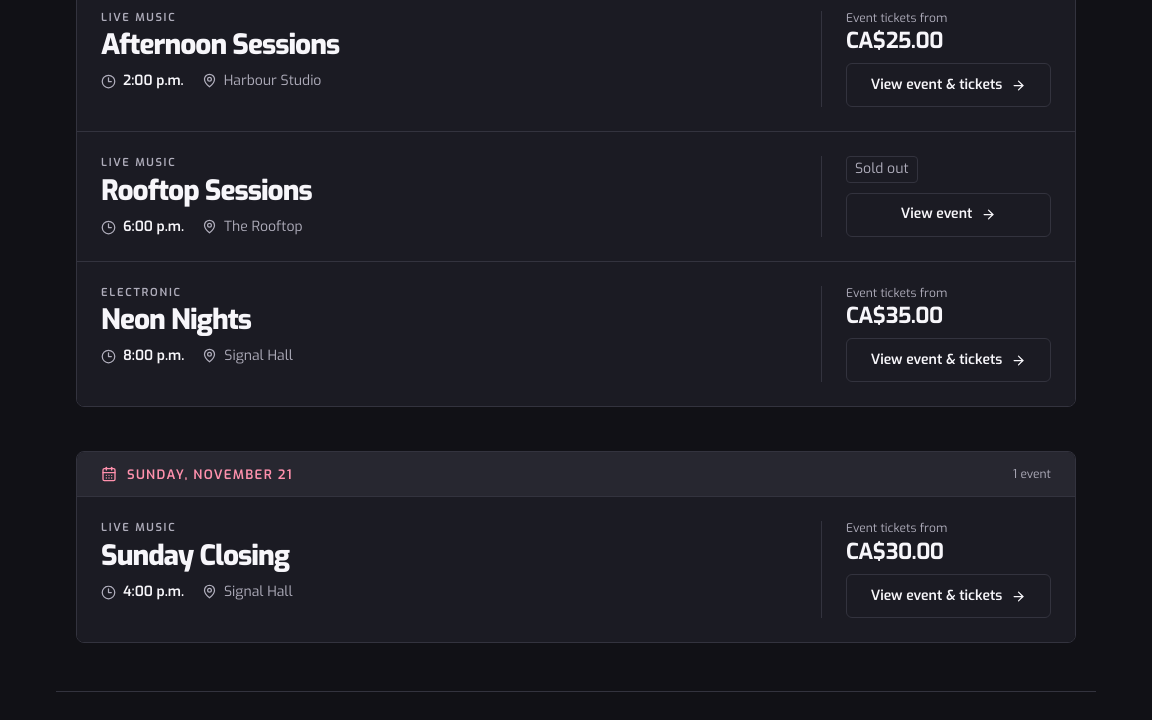
it: festival customer journey › renders event-tickets-only festivals without a pass selector or pass coverage claims
(page scrolled)
Click the link with aria-label "View event & tickets: Neon Nights": (948, 360) [846,338,1051,382]
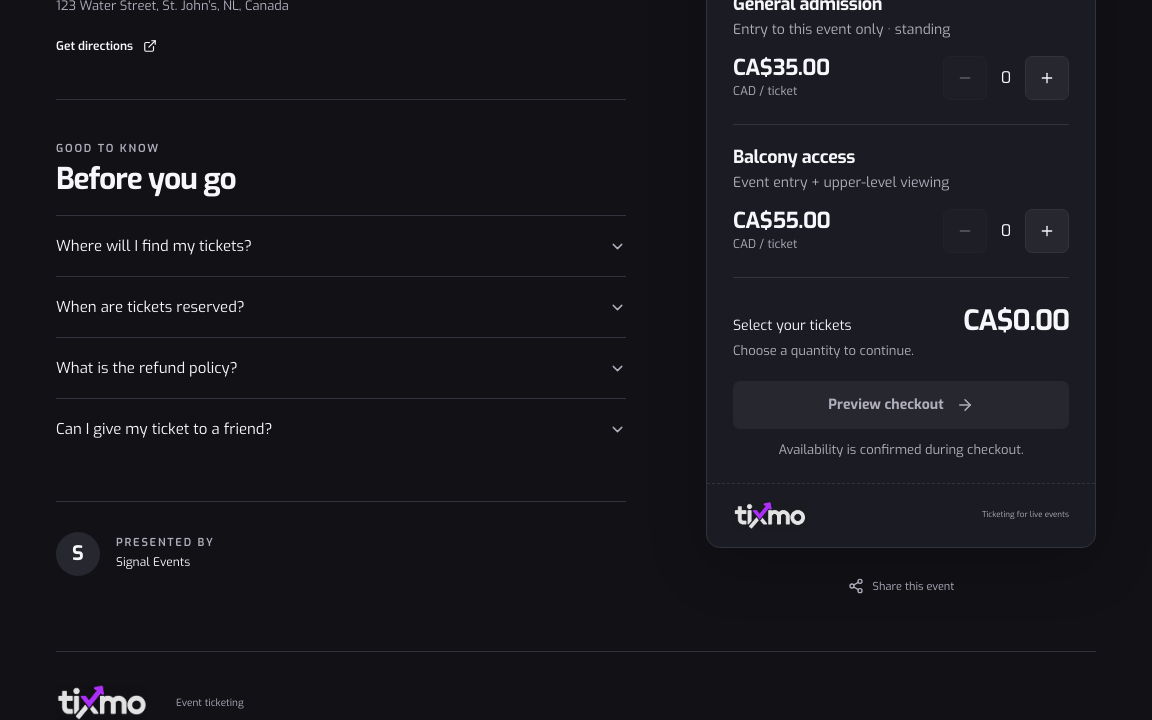
Result: the button named "Add one General admission ticket" is shown at [1025,56,1069,100]
